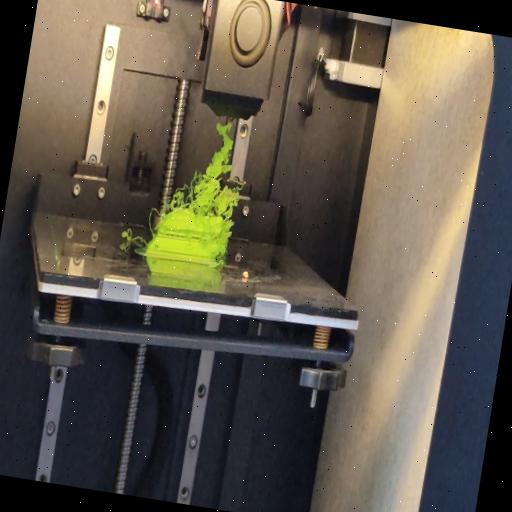spaghetti: (164, 114, 250, 222), (214, 220, 235, 270), (144, 204, 158, 236), (120, 228, 144, 245)
